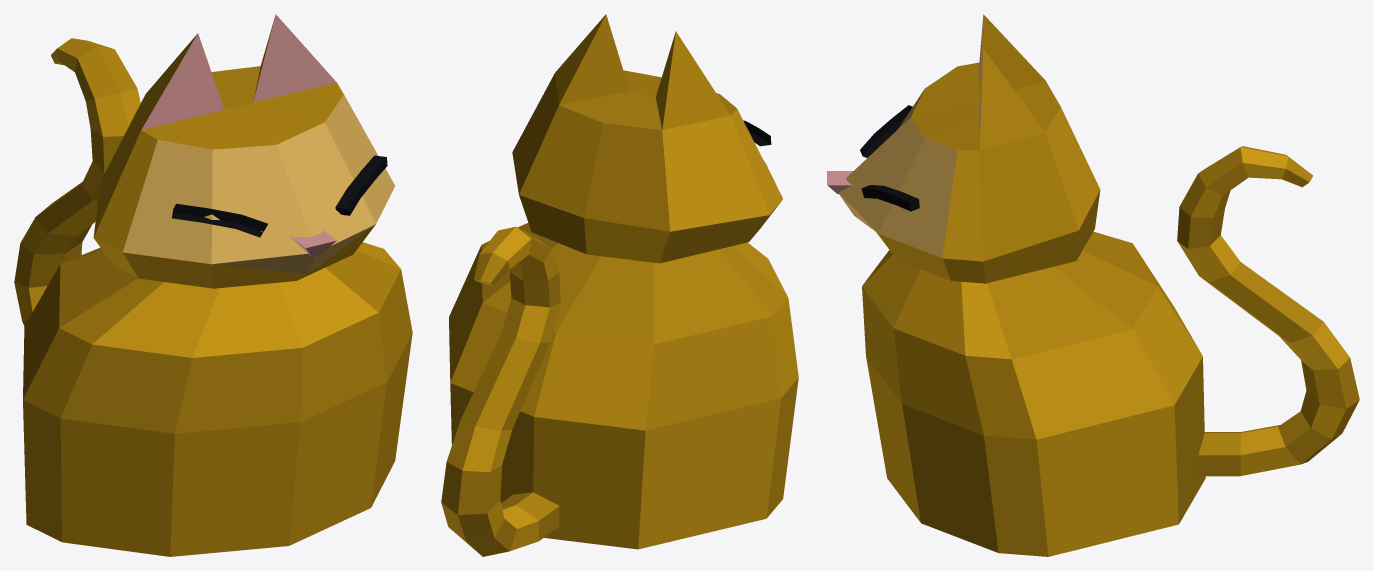
Rendered from cat_fat.fbx.
3 renders of one model, left to right at view 1: azimuth 30°, elevation 25°; view 2: azimuth 150°, elevation 25°; view 3: azimuth 270°, elevation 25°, orthographic. The views are drawn at different scales.
Parts seen in each view (by area): view 1: cat, tail; view 2: cat, tail; view 3: cat, tail.
Boxes of the visible parts, left/top/right/bottom form: cat: left=23, top=14, right=412, bottom=556; tail: left=14, top=38, right=140, bottom=325; cat: left=449, top=14, right=798, bottom=549; tail: left=441, top=226, right=560, bottom=556; cat: left=827, top=14, right=1205, bottom=556; tail: left=1177, top=146, right=1359, bottom=476.
Size of the model in its own units: 0.923 by 1.15 by 1.25.
